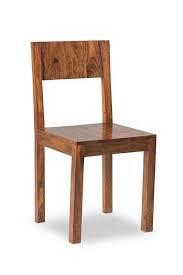chair: (31, 41, 155, 240)
